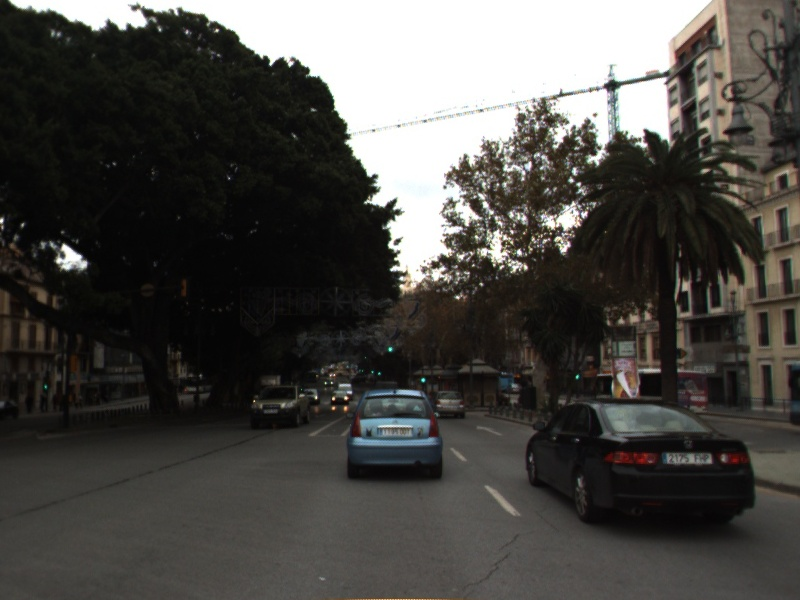STRAIGHT: (474, 423, 505, 437)
